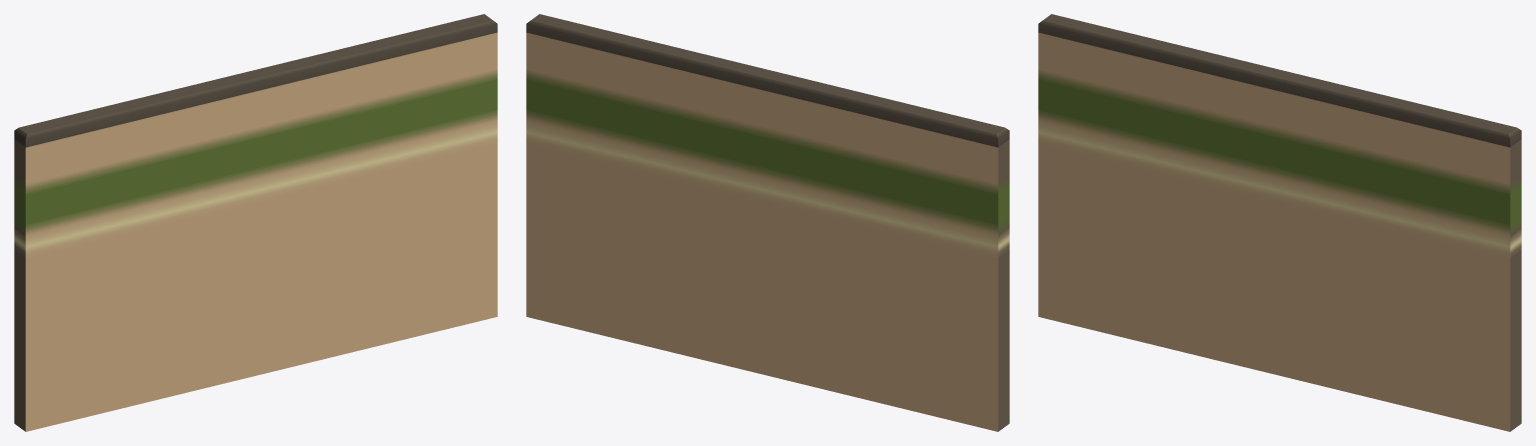
File: FamilyRestaurant_Partition.fbx
3 views of the same model, side by side, from view 1: azimuth 30°, elevation 25°; view 2: azimuth 150°, elevation 25°; view 3: azimuth 330°, elevation 25° (orthographic).
Visible parts, largest first — view 1: Partition; view 2: Partition; view 3: Partition.
Boxes of the visible parts, x1,y1,x2,y2 form: Partition: [14, 14, 497, 431]; Partition: [526, 14, 1009, 431]; Partition: [1038, 14, 1521, 431].
Bounding box in the file's own units: 200 × 120 × 8.33.
